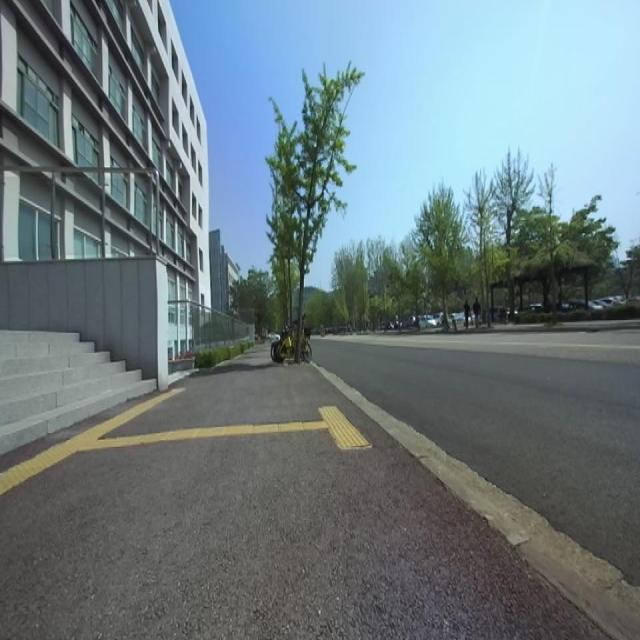sidewalk: (0, 346, 606, 639), (314, 364, 640, 640)
